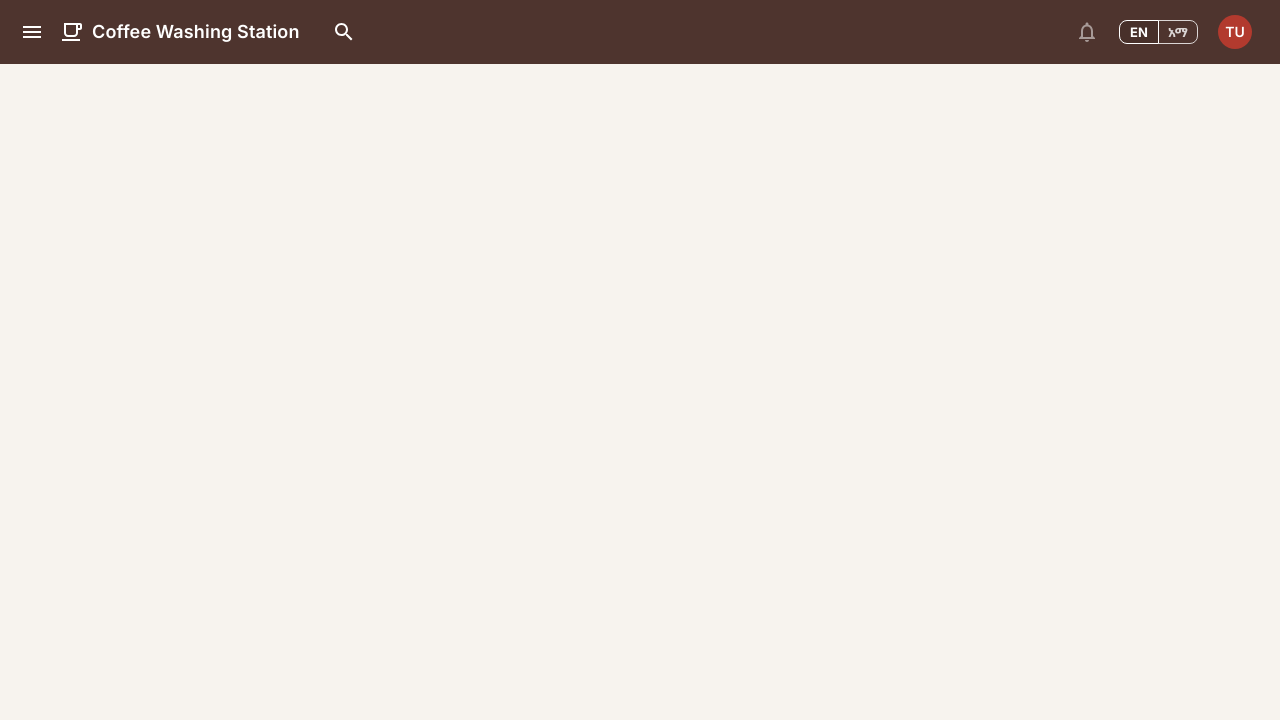
Test: AppShell navigation › opens the menu as a drawer on phones and closes it after navigating
Click the button named "Open navigation" at (32, 32), box [12,12,52,52]
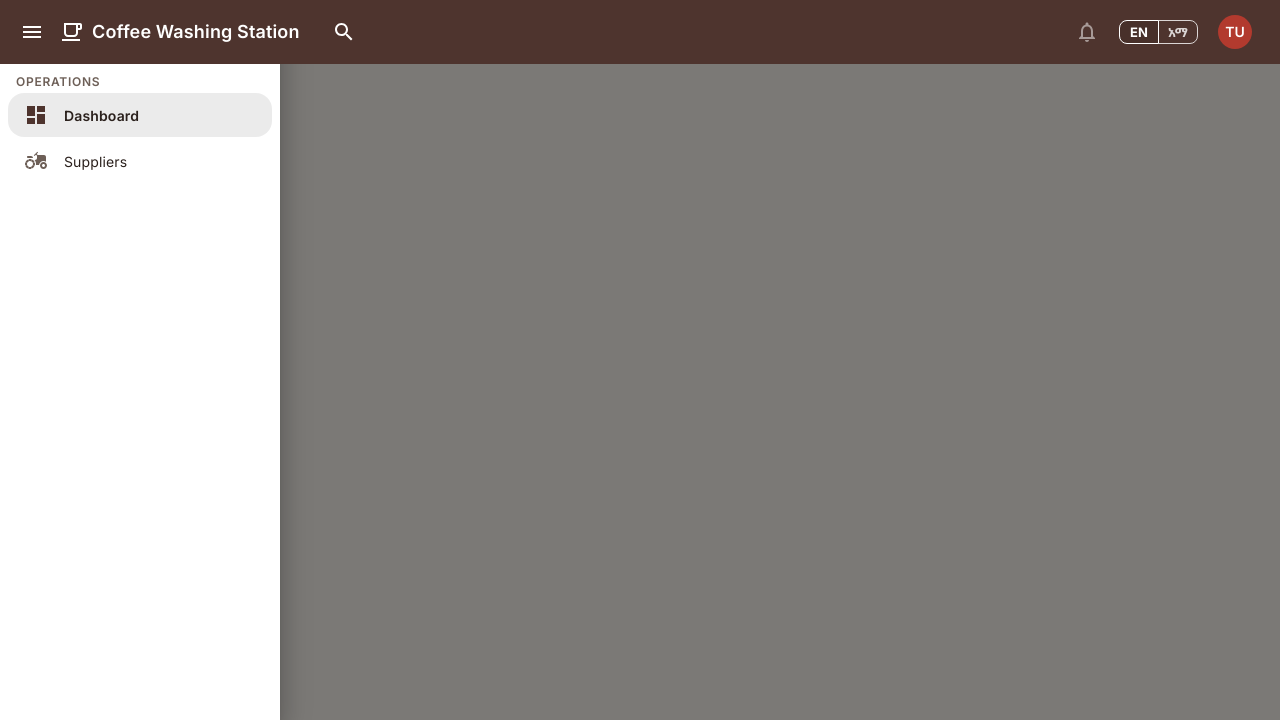
Click the link "Suppliers" at (76, 161), box [24,149,127,173]
(page scrolled)
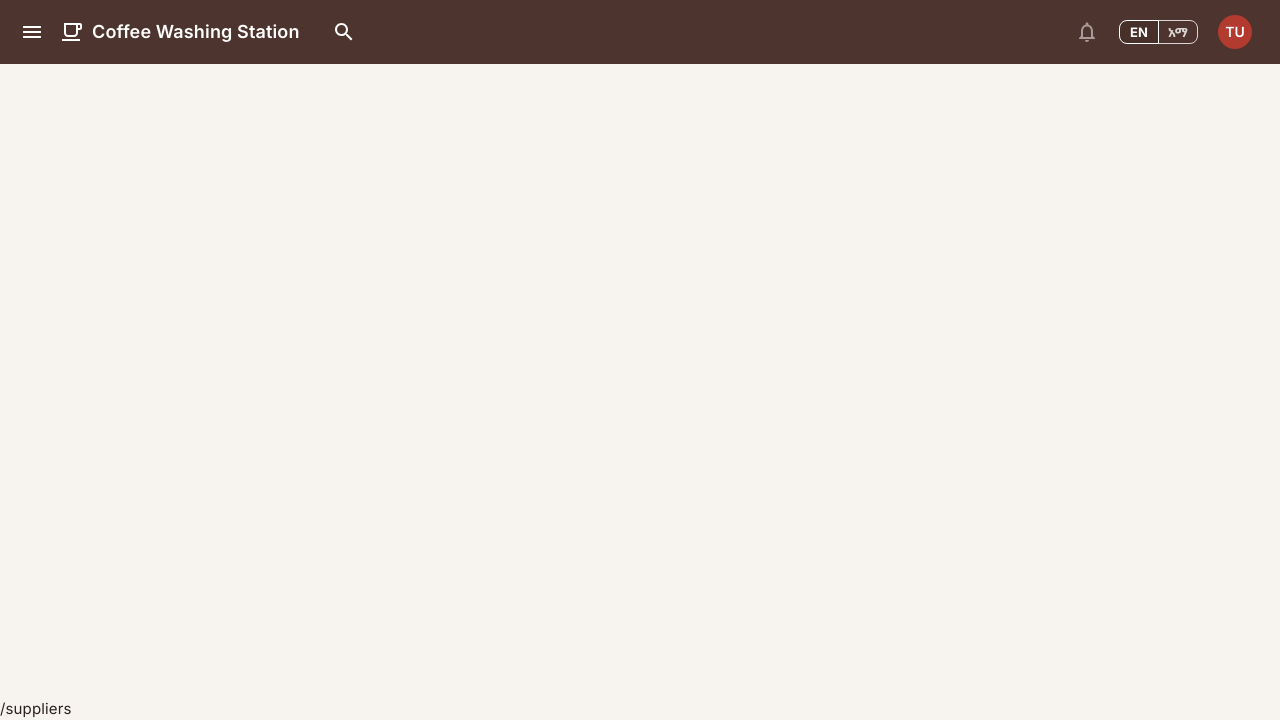
Now the text with test id "where" reads "/suppliers", box [0,699,72,718]
